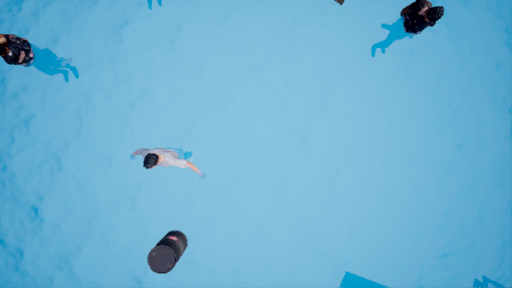person: (368, 1, 445, 61), (134, 140, 209, 190)
